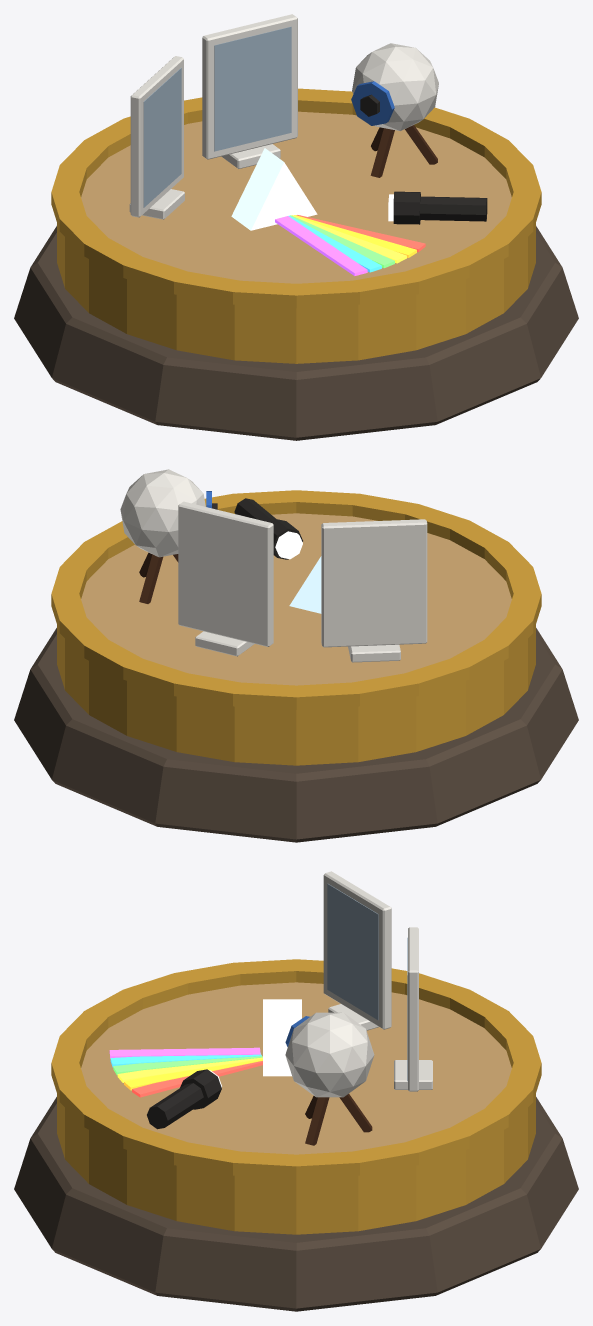
Rendered from stasiun_cahaya_v001.glb.
3 renders of one model, top to bottom at view 1: azimuth 30°, elevation 25°; view 2: azimuth 150°, elevation 25°; view 3: azimuth 270°, elevation 25°, orthographic.
Visible parts, largest first — view 1: Stasiun_Cahaya, Pelangi; view 2: Stasiun_Cahaya, Senter_Lensa; view 3: Stasiun_Cahaya, Pelangi.
Boxes of the visible parts, bbox=[...] form: Stasiun_Cahaya: bbox=[14, 14, 578, 440]; Pelangi: bbox=[275, 215, 425, 275]; Stasiun_Cahaya: bbox=[14, 469, 578, 842]; Senter_Lensa: bbox=[275, 531, 302, 559]; Stasiun_Cahaya: bbox=[14, 871, 578, 1311]; Pelangi: bbox=[109, 1047, 262, 1097].
Size of the model in its own units: 2.03 by 0.995 by 2.03.
